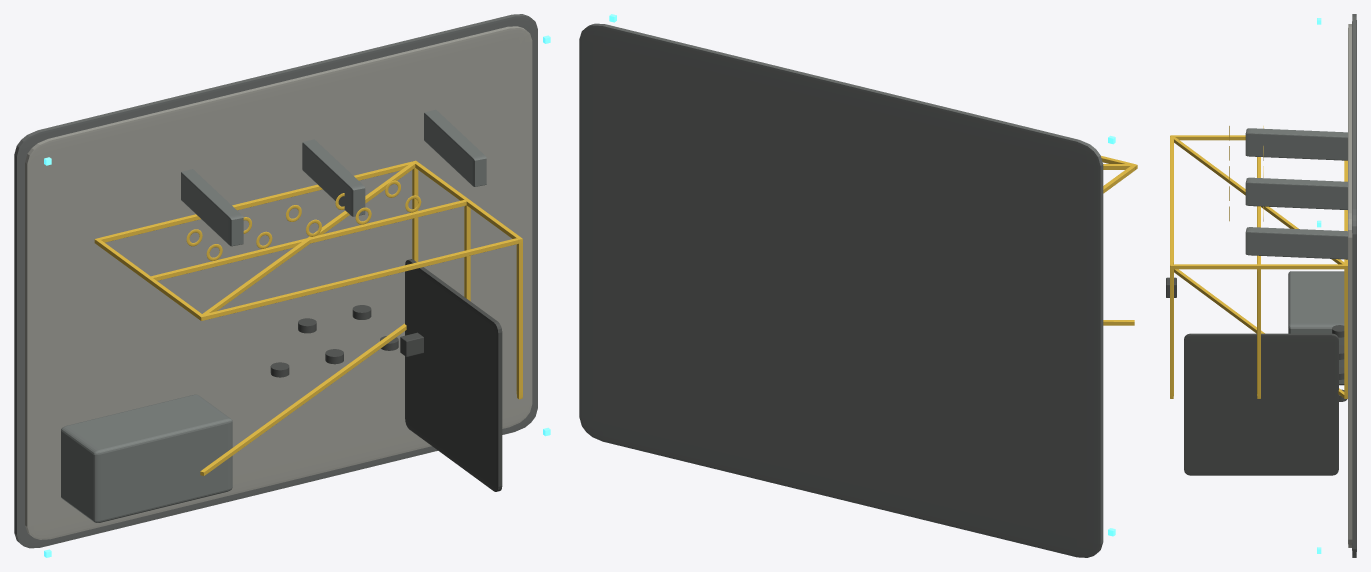
File: b-17-heavy-factory-lod2.glb
3 renders of one model, left to right at view 1: azimuth 30°, elevation 25°; view 2: azimuth 150°, elevation 25°; view 3: azimuth 270°, elevation 25°, orthographic. The views are drawn at different scales.
Visible parts, largest first — view 1: foundation_inner_pad, parts_store_main_hall, factory_door, foundation, factory_buttress_1, factory_buttress_5, factory_buttress_3, heavy_crane_beam_x_2_n, heavy_crane_beam_x_1_n, heavy_crane_brace_b_-3, heavy_crane_beam_x_0_n, heavy_crane_brace_b_3 (+3 smaller); view 2: foundation; view 3: factory_door, parts_store_main_hall, factory_buttress_3, factory_buttress_1, factory_buttress_5, foundation, foundation_inner_pad, heavy_crane_column_e_n, heavy_crane_brace_b_3, heavy_crane_brace_b_-3, heavy_crane_beam_x_2_n, heavy_crane_beam_y_2_e (+3 smaller).
Boxes of the visible parts, box(x1,y1,x2,y2) form: foundation_inner_pad: box(25, 26, 532, 539); parts_store_main_hall: box(61, 394, 232, 522); factory_door: box(405, 259, 502, 491); foundation: box(14, 14, 537, 548); factory_buttress_1: box(181, 169, 243, 246); factory_buttress_5: box(424, 109, 486, 186); factory_buttress_3: box(302, 139, 365, 216); heavy_crane_beam_x_2_n: box(199, 238, 522, 320); heavy_crane_beam_x_1_n: box(146, 200, 466, 282); heavy_crane_brace_b_-3: box(200, 323, 406, 475); heavy_crane_beam_x_0_n: box(94, 161, 413, 244); heavy_crane_brace_b_3: box(202, 163, 415, 314); foundation: box(579, 23, 1103, 557); factory_door: box(1184, 333, 1338, 475); parts_store_main_hall: box(1288, 271, 1344, 385); factory_buttress_3: box(1245, 177, 1347, 209); factory_buttress_1: box(1245, 128, 1347, 160); factory_buttress_5: box(1245, 227, 1347, 259); foundation: box(1352, 14, 1356, 557); foundation_inner_pad: box(1348, 24, 1352, 547); heavy_crane_column_e_n: box(1173, 264, 1344, 269); heavy_crane_brace_b_3: box(1173, 137, 1344, 264); heavy_crane_brace_b_-3: box(1174, 269, 1344, 397); heavy_crane_beam_x_2_n: box(1170, 135, 1173, 269); heavy_crane_beam_y_2_e: box(1170, 264, 1173, 398).
Size of what is drawn, in the model's own units: 21 by 16 by 7.99.
